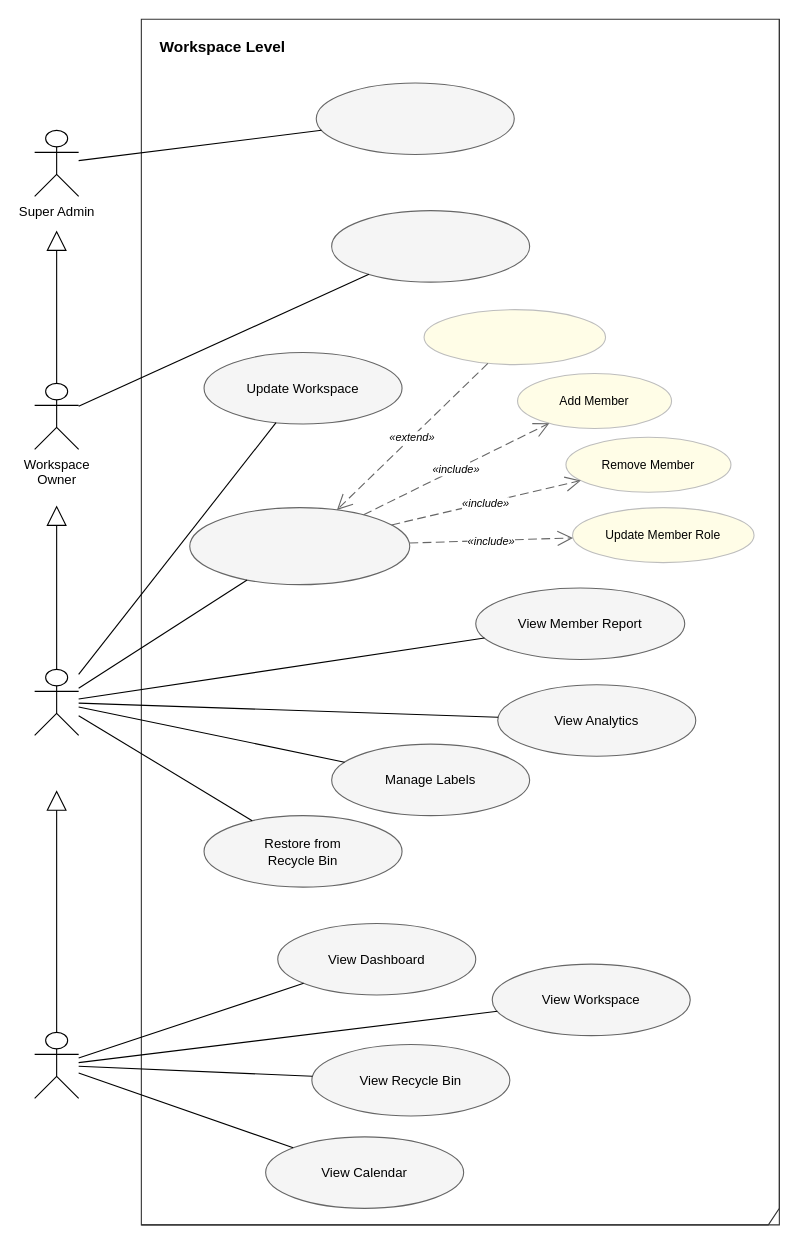
This 799x1244 diagram has some shape labels left out. Here are the shapes that lost their labels. From the top down, the centre of each, then its label:
point 414,118: Create Workspace
point 430,246: Delete Workspace
point 514,337: Create Member User
point 299,546: Manage Workspace Members
point 56,701: Workspace Admin
point 56,1064: Workspace Member
